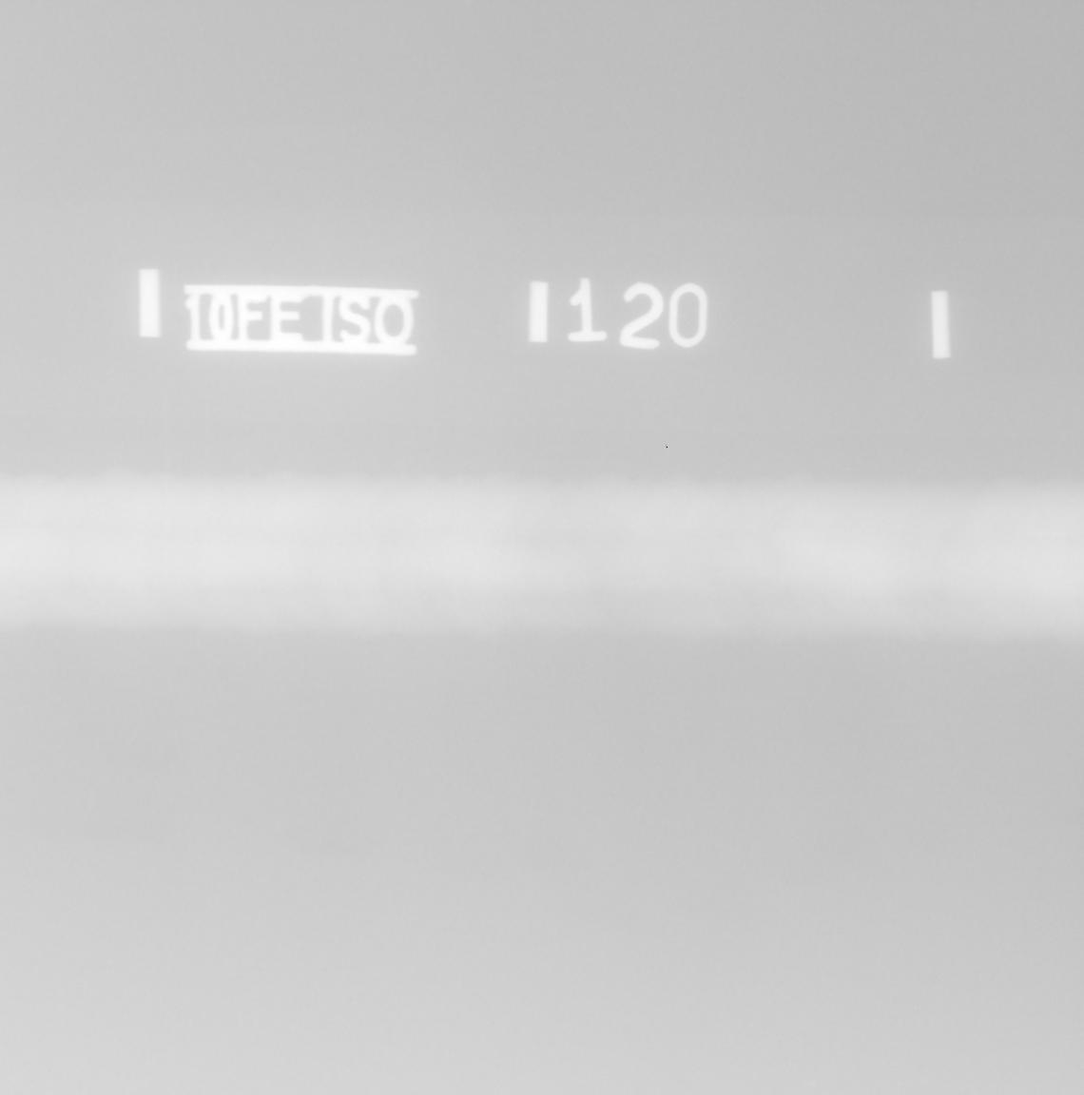Inclusion: (623, 573, 646, 581)
